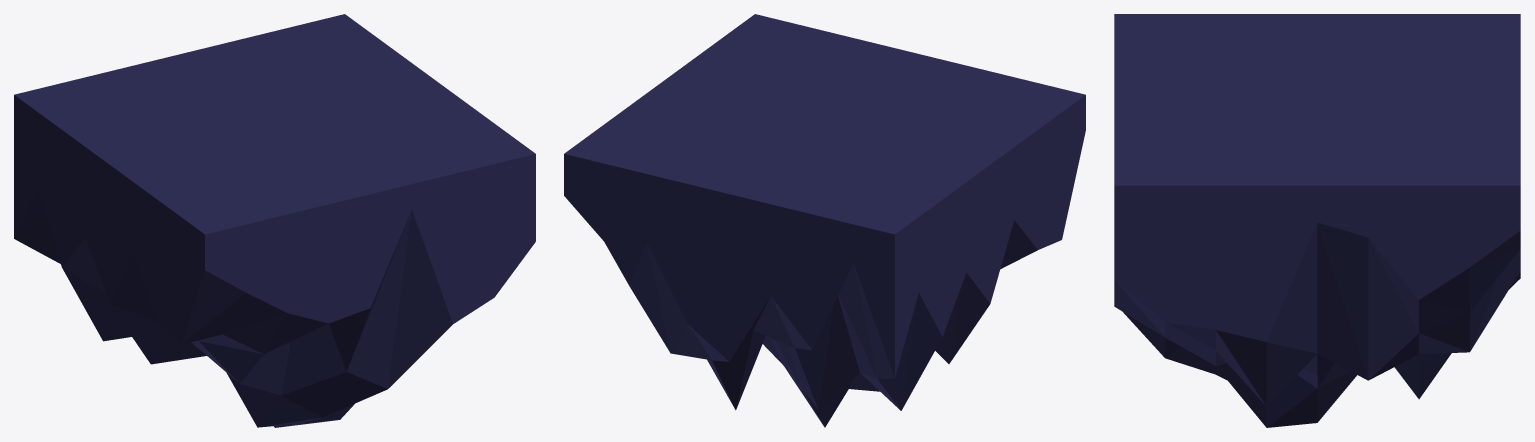
Rendered from Floortile5.fbx.
3 views of the same model, side by side, from view 1: azimuth 30°, elevation 25°; view 2: azimuth 150°, elevation 25°; view 3: azimuth 270°, elevation 25° (orthographic). The views are drawn at different scales.
Visible parts, largest first — view 1: Box010; view 2: Box010; view 3: Box010.
Part boxes in pixels (<box>): Box010: <box>14,14,535,427</box>; Box010: <box>564,14,1085,427</box>; Box010: <box>1114,14,1520,427</box>.
Size of the model in its own units: 100 by 100 by 87.72.
